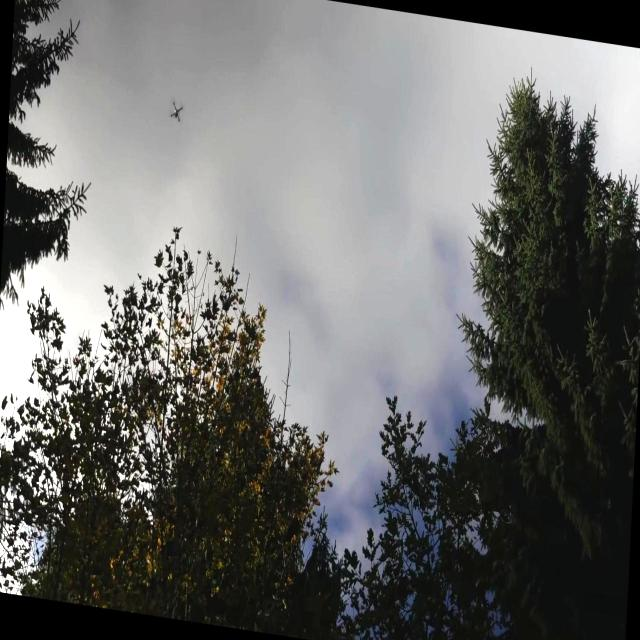drone: (170, 101, 184, 122)
